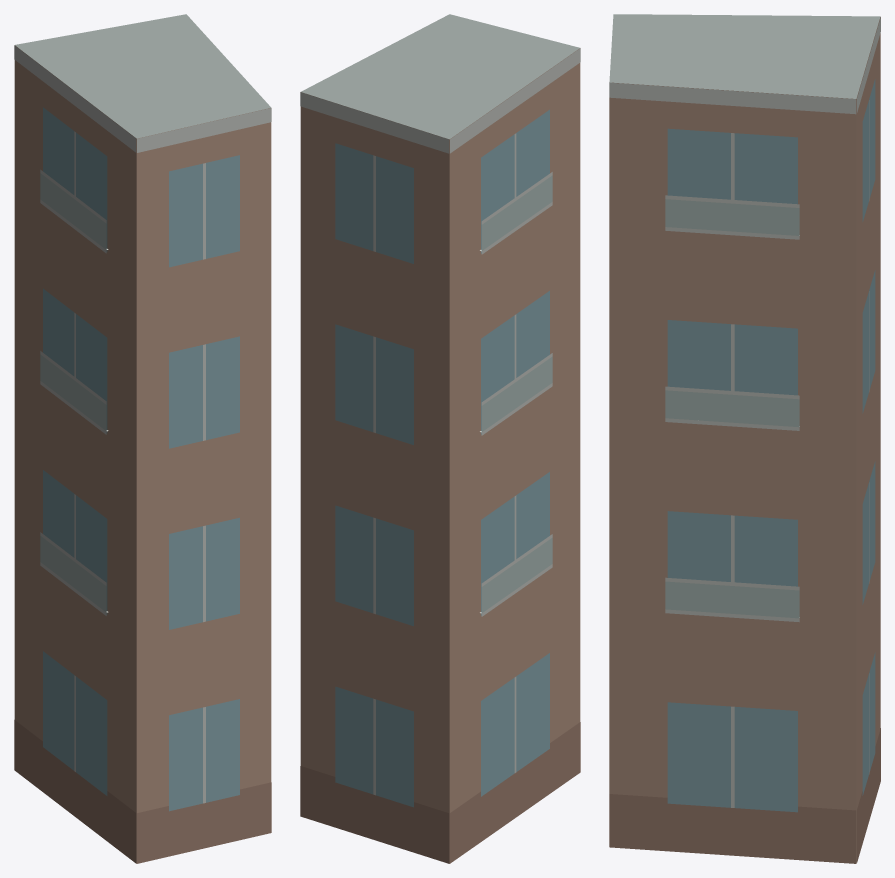
The model's file is survey-upis-32671087.glb.
The picture shows the model from 3 angles, left to right: view 1: azimuth 30°, elevation 25°; view 2: azimuth 150°, elevation 25°; view 3: azimuth 270°, elevation 25°; orthographic projection. The views are drawn at different scales.
Parts seen in each view (by area): view 1: survey-upis-32671087.tmp; view 2: survey-upis-32671087.tmp; view 3: survey-upis-32671087.tmp.
Part boxes in pixels (x1,y1,x2,y2): survey-upis-32671087.tmp: [14, 14, 271, 863]; survey-upis-32671087.tmp: [300, 14, 580, 863]; survey-upis-32671087.tmp: [609, 14, 880, 863].
Size of the model in its own units: 2.93 by 12.2 by 3.93.
